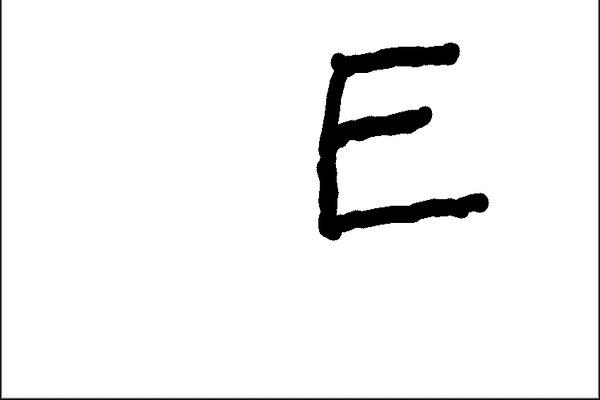E: (308, 39, 493, 242)
